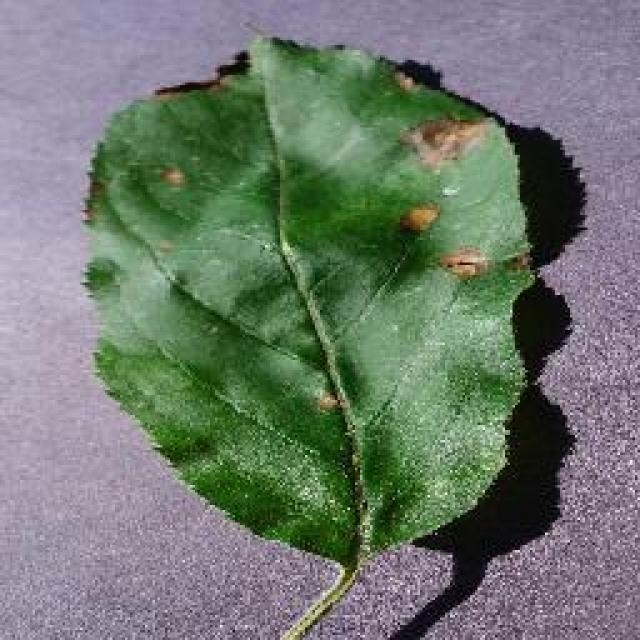apple healthy: (77, 32, 585, 638)
